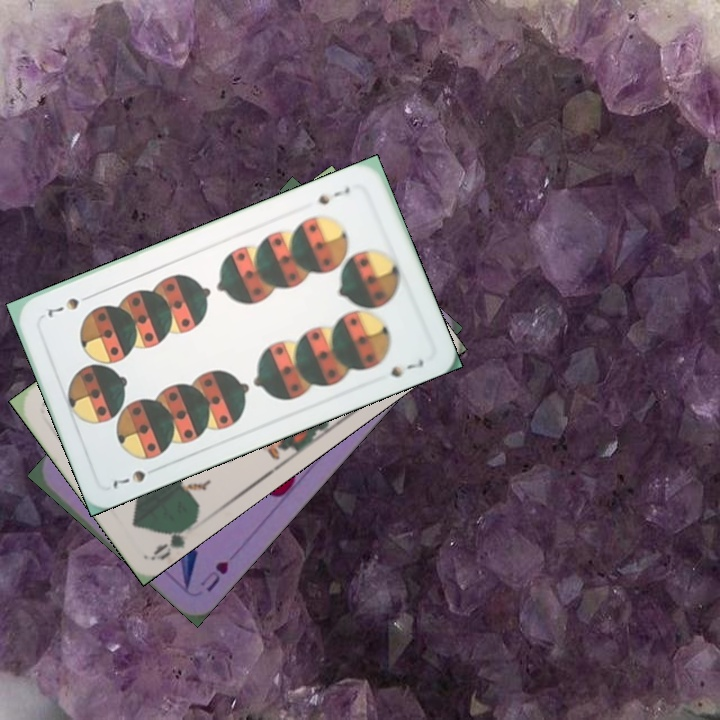GO: (150, 514, 200, 562)
HU: (196, 556, 231, 595)
S7: (108, 466, 149, 492), (314, 182, 353, 208)
